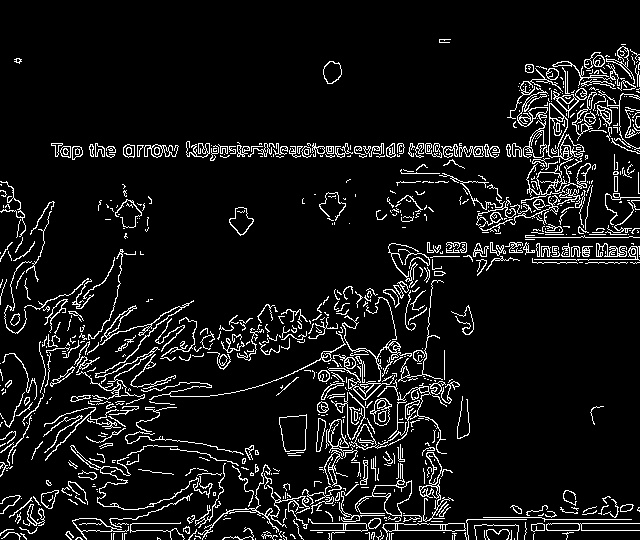down: (220, 201, 260, 240), (315, 187, 351, 227)
up: (388, 188, 428, 230), (110, 195, 153, 234)
